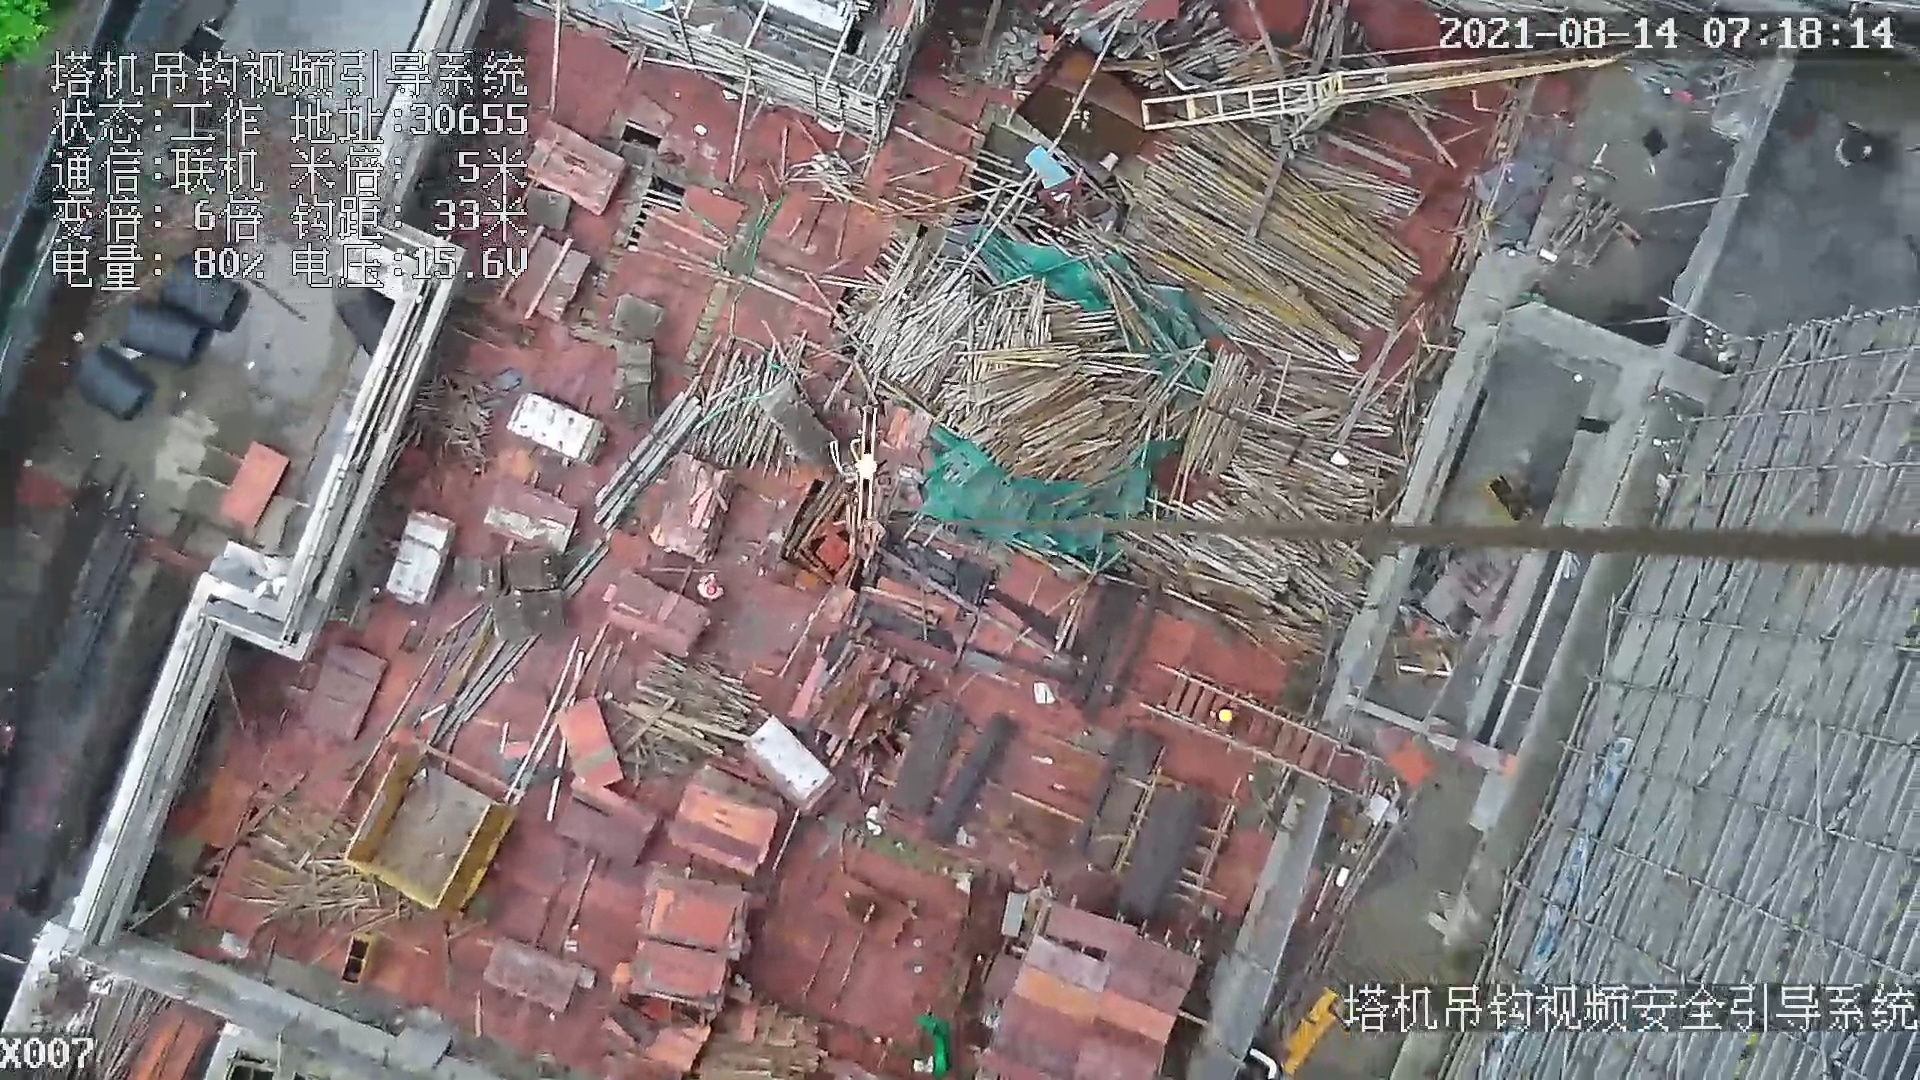helmet: (706, 584, 717, 594)
hook: (845, 403, 892, 526)
person: (695, 572, 724, 595)
